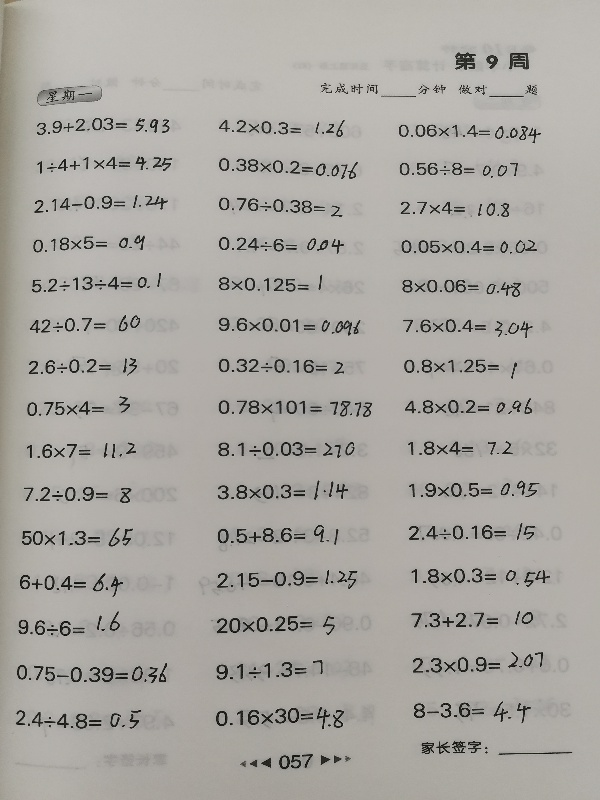equation: (12, 660, 170, 686), (212, 704, 348, 733), (215, 397, 376, 421), (214, 566, 361, 592), (408, 649, 547, 676), (394, 119, 544, 144), (214, 477, 352, 504), (407, 563, 553, 588), (213, 520, 341, 548), (13, 705, 144, 732), (214, 156, 361, 180), (402, 432, 528, 460), (32, 113, 173, 138), (409, 696, 534, 724), (214, 438, 359, 462), (398, 315, 536, 340), (21, 393, 144, 421), (214, 315, 363, 338), (406, 477, 543, 502), (16, 566, 126, 597), (33, 152, 175, 176), (30, 191, 171, 215), (215, 116, 352, 140), (213, 611, 338, 637), (406, 519, 539, 543), (19, 524, 137, 551), (398, 236, 541, 258), (401, 395, 536, 418), (214, 354, 347, 377), (214, 233, 347, 256), (14, 611, 123, 639), (399, 354, 520, 379), (398, 275, 524, 299), (214, 194, 345, 217), (28, 272, 164, 294), (26, 354, 141, 380), (396, 159, 522, 182), (26, 312, 144, 336), (19, 482, 134, 506), (28, 232, 148, 255), (408, 609, 539, 630), (22, 439, 139, 462), (397, 198, 512, 221), (212, 658, 326, 681), (214, 272, 325, 295)
